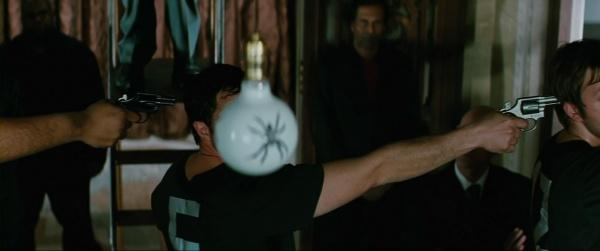Gun: (498, 93, 562, 134), (110, 91, 177, 120)
